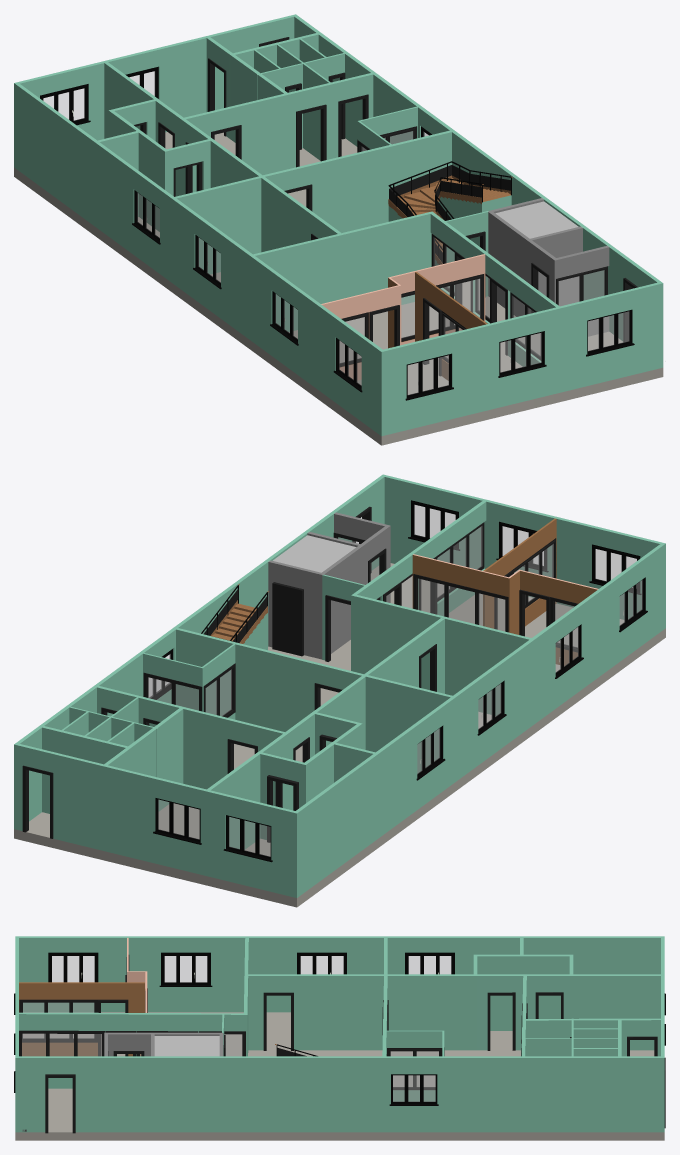
Rendered from Floor G.gltf.
3 views of the same model, one above another, from view 1: azimuth 30°, elevation 25°; view 2: azimuth 150°, elevation 25°; view 3: azimuth 270°, elevation 25° (orthographic). The views are drawn at different scales.
Parts seen in each view (by area): view 1: Wall, Wall.001, Slab, Wall.007, Wall.003, Wall.006, Wall.002, Stair, Wall.009, Wall.012, Wall.005, Wall.008 (+13 smaller); view 2: Wall, Slab, Wall.001, Wall.007, Wall.003, Wall.002, Wall.006, Wall.009, Wall.012, Wall.005, Stair, Wall.015 (+14 smaller); view 3: Wall, Wall.003, Slab, Wall.002, Wall.001, Wall.011, Wall.021, Wall.005, Wall.004, Slab.001, Wall.017, Wall.008 (+38 smaller).
Boxes of the visible parts, x1,y1,x2,y2 form: Wall: [14, 14, 663, 436]; Wall.001: [250, 211, 559, 366]; Slab: [14, 132, 663, 445]; Wall.007: [263, 130, 454, 232]; Wall.003: [98, 62, 261, 231]; Wall.006: [184, 73, 373, 192]; Wall.002: [172, 175, 341, 274]; Stair: [388, 161, 512, 265]; Wall.009: [488, 198, 582, 316]; Wall.012: [320, 254, 485, 380]; Wall.005: [205, 36, 287, 142]; Wall.008: [526, 240, 609, 336]; Wall: [14, 474, 665, 897]; Slab: [14, 563, 665, 907]; Wall.001: [351, 500, 531, 715]; Wall.007: [173, 627, 363, 731]; Wall.003: [207, 674, 375, 849]; Wall.002: [364, 618, 453, 773]; Wall.006: [96, 685, 284, 805]; Wall.009: [268, 532, 363, 659]; Wall.012: [412, 554, 598, 665]; Wall.005: [103, 708, 183, 811]; Stair: [201, 584, 268, 650]; Wall.015: [39, 725, 131, 813]; Wall: [15, 936, 664, 1132]; Wall.003: [384, 937, 660, 1050]; Slab: [15, 1012, 664, 1140]; Wall.002: [248, 936, 387, 1050]; Wall.001: [15, 936, 248, 1088]; Wall.011: [19, 982, 144, 1056]; Wall.021: [477, 974, 569, 1050]; Wall.005: [526, 1018, 660, 1056]; Wall.004: [386, 1030, 444, 1101]; Slab.001: [154, 1036, 219, 1056]; Wall.017: [525, 1038, 617, 1056]; Wall.008: [104, 1032, 150, 1056].
Size of the model in its own units: 9.67 by 3 by 21.42.
15 materials, 2 textured.
